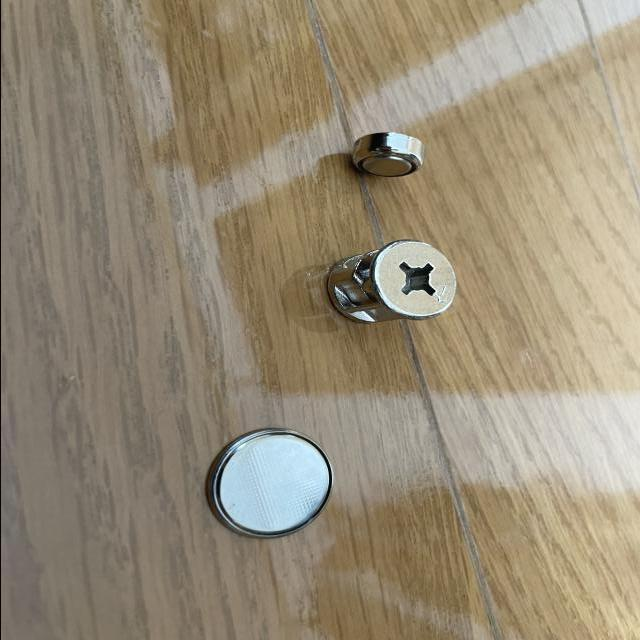COIN: (204, 429, 334, 538), (349, 131, 426, 178)
